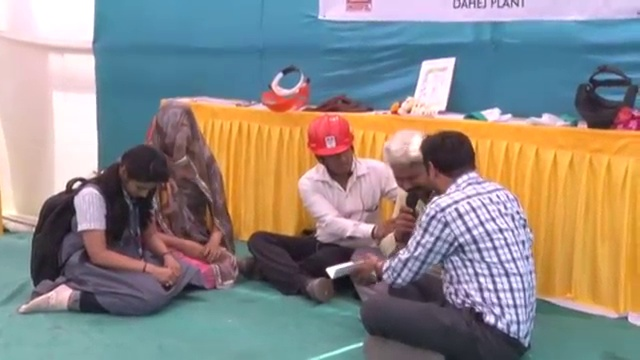helmet: (303, 115, 358, 158)
helmet_off: (414, 132, 484, 203), (110, 144, 169, 204), (152, 102, 202, 165), (388, 131, 433, 198)
helmet_on: (303, 116, 360, 181)
person: (357, 129, 538, 360), (243, 104, 411, 299), (18, 142, 194, 322), (141, 93, 239, 291), (351, 132, 435, 302)
